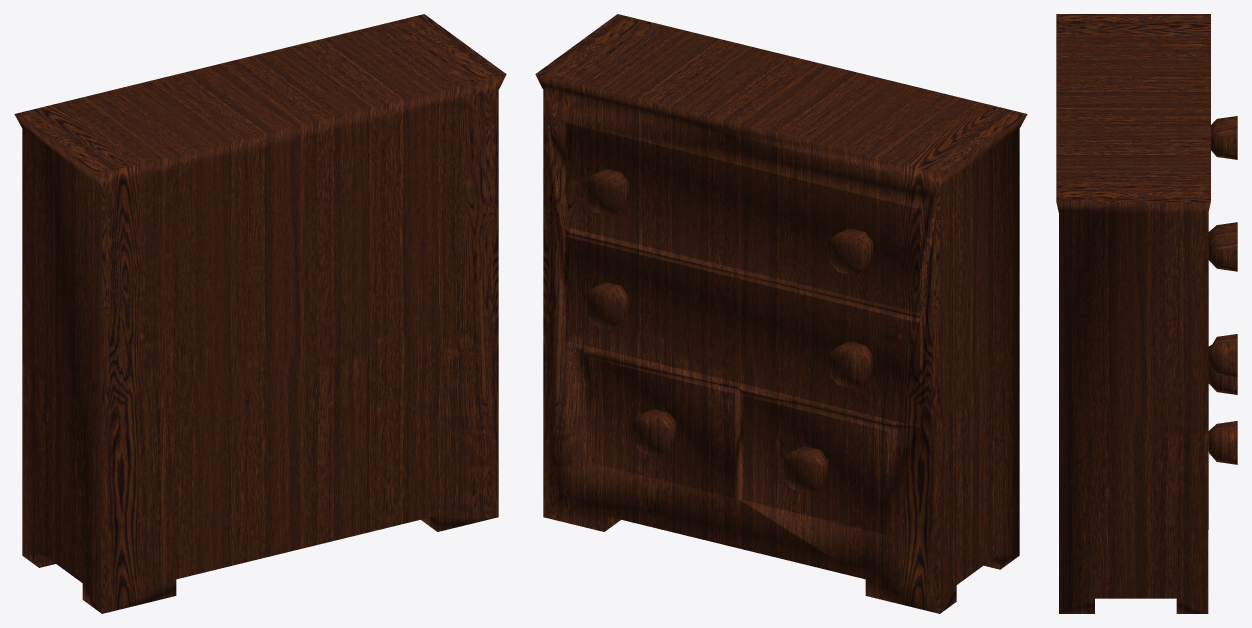
Rendered from dresser.glb.
3 views of the same model, side by side, from view 1: azimuth 30°, elevation 25°; view 2: azimuth 150°, elevation 25°; view 3: azimuth 270°, elevation 25° (orthographic). The views are drawn at different scales.
Visible parts, largest first — view 1: WoodenDrawer; view 2: WoodenDrawer; view 3: WoodenDrawer.
Part boxes in pixels (box(x1,y1,x2,y2)): WoodenDrawer: box(14, 14, 506, 613); WoodenDrawer: box(535, 14, 1027, 613); WoodenDrawer: box(1056, 14, 1237, 613).
Size of the model in its own units: 1.07 by 1.1 by 0.4353.
1 material, 1 textured.
